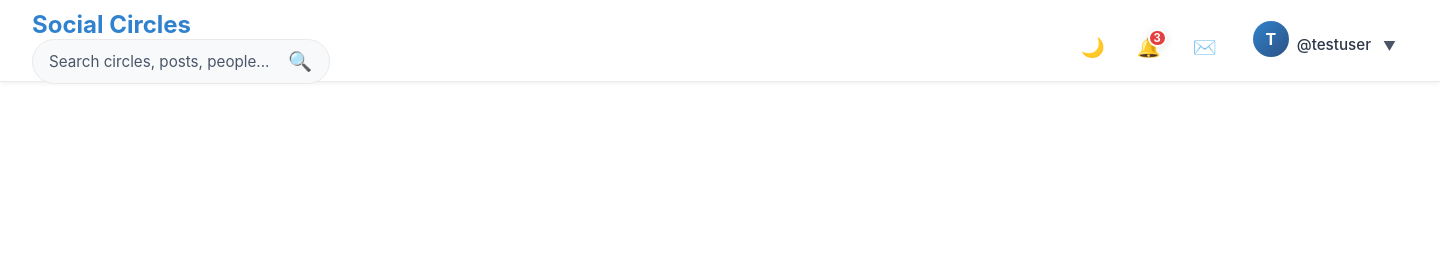
Test: Navbar Component › User Dropdown Menu › opens dropdown when user section is clicked
Expected: the text "Profile" is not shown
Click the text "@testuser".
click(1324, 38)  # box [1253, 20, 1396, 56]
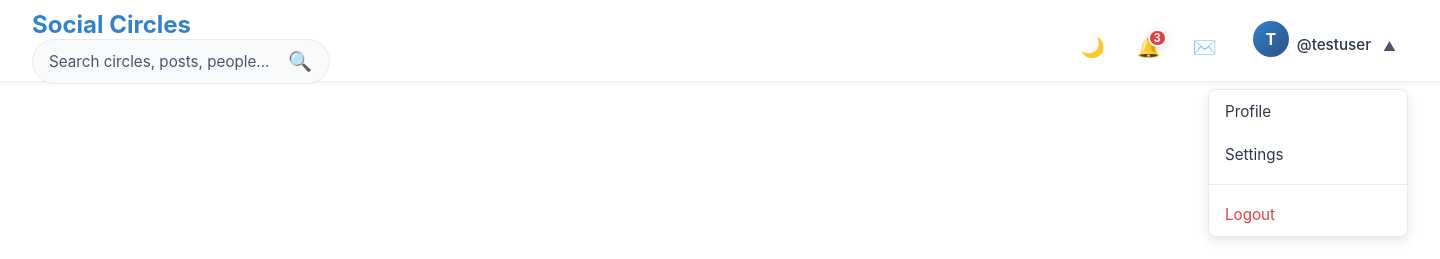
Now the button "Profile" is shown, box [1209, 90, 1407, 132]
Now the button "Settings" is shown, box [1209, 132, 1407, 176]
Now the button "Logout" is shown, box [1209, 192, 1407, 236]
